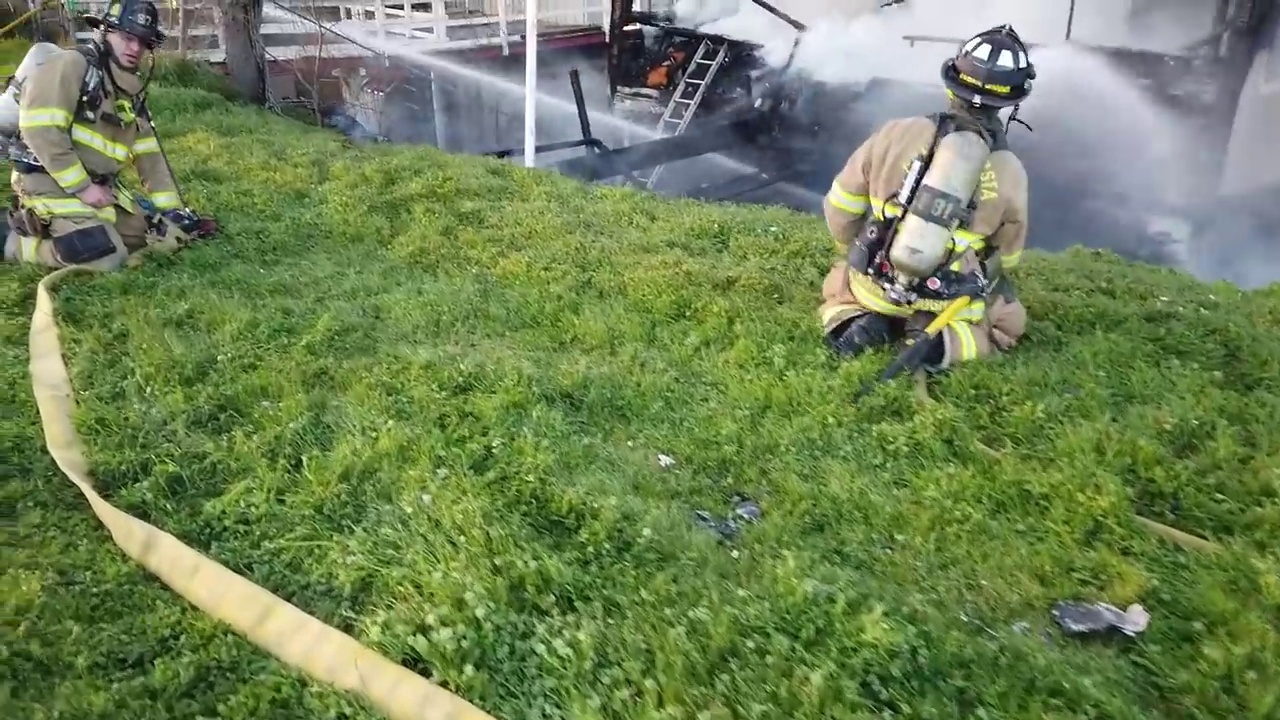fire: (641, 45, 681, 90)
smoke: (1028, 47, 1280, 282), (758, 1, 935, 80), (1069, 4, 1224, 45), (773, 78, 944, 114), (937, 1, 1053, 31), (669, 1, 755, 36)
